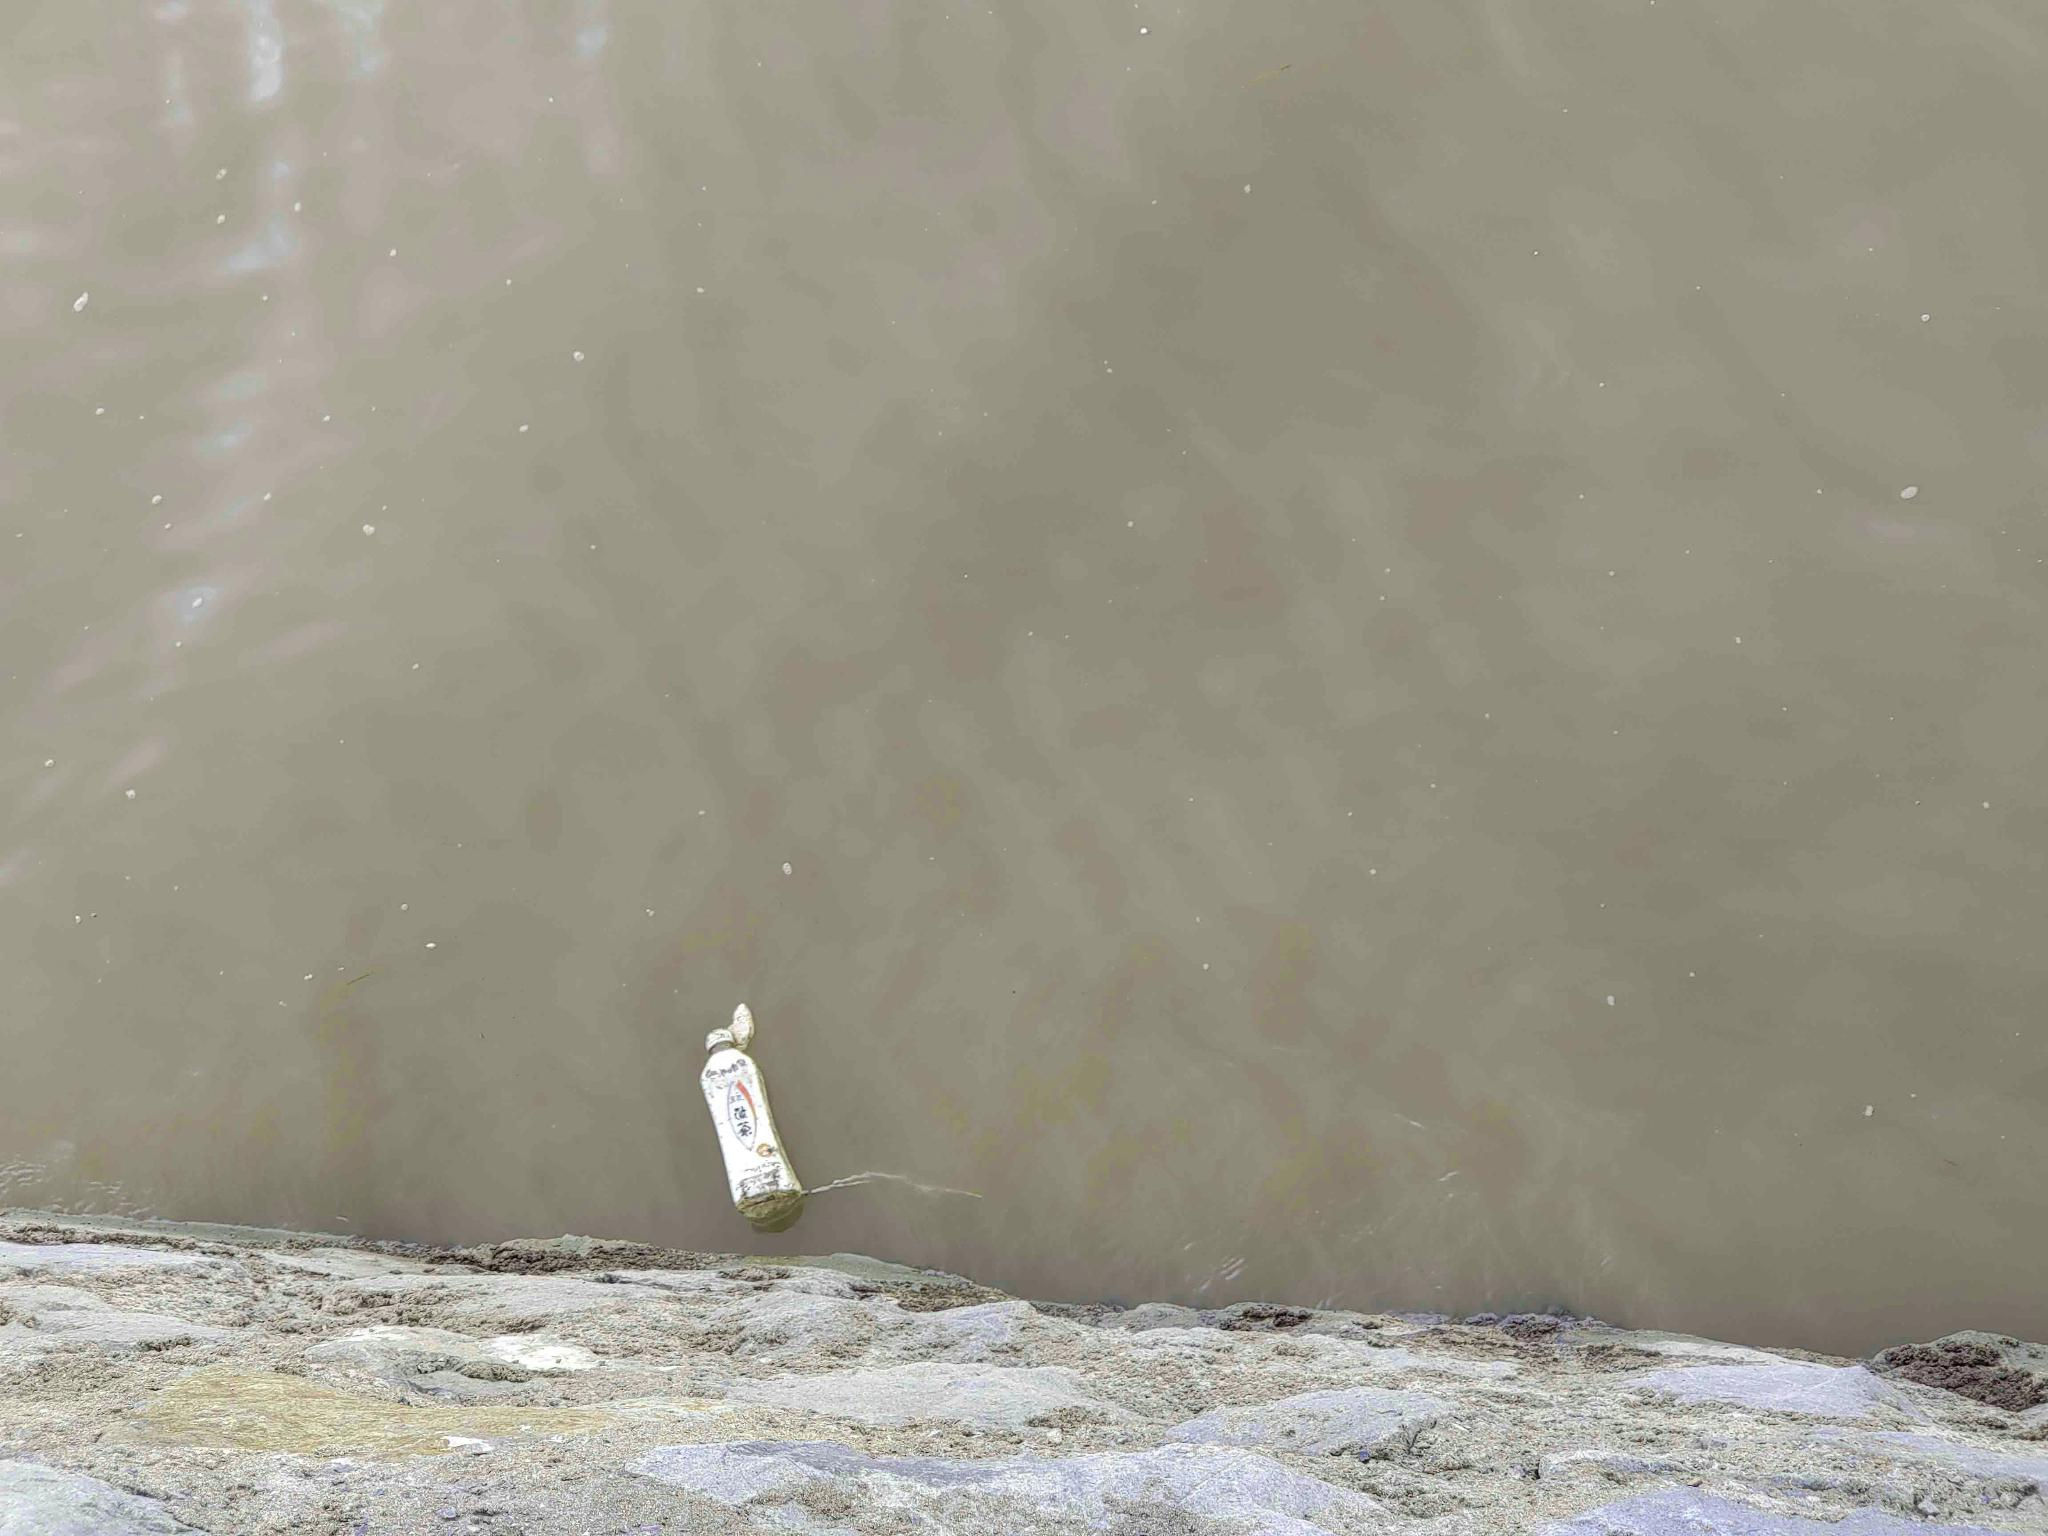Plastic: (697, 1015, 811, 1228)
